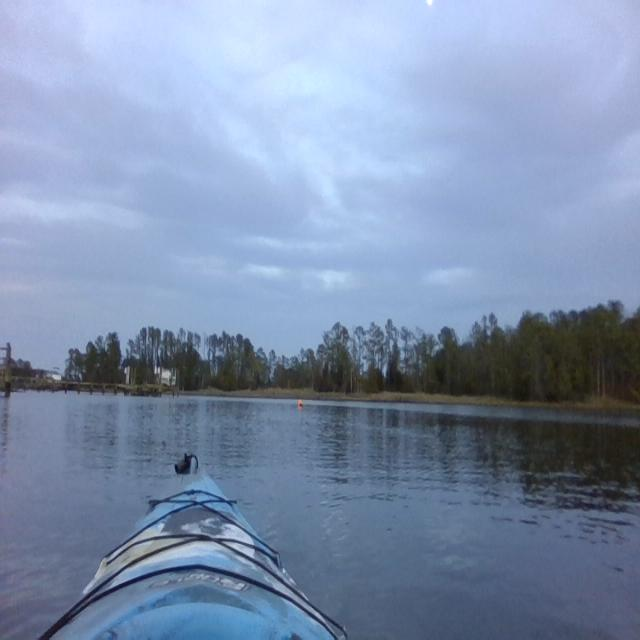Buoy: (297, 396, 304, 408)
